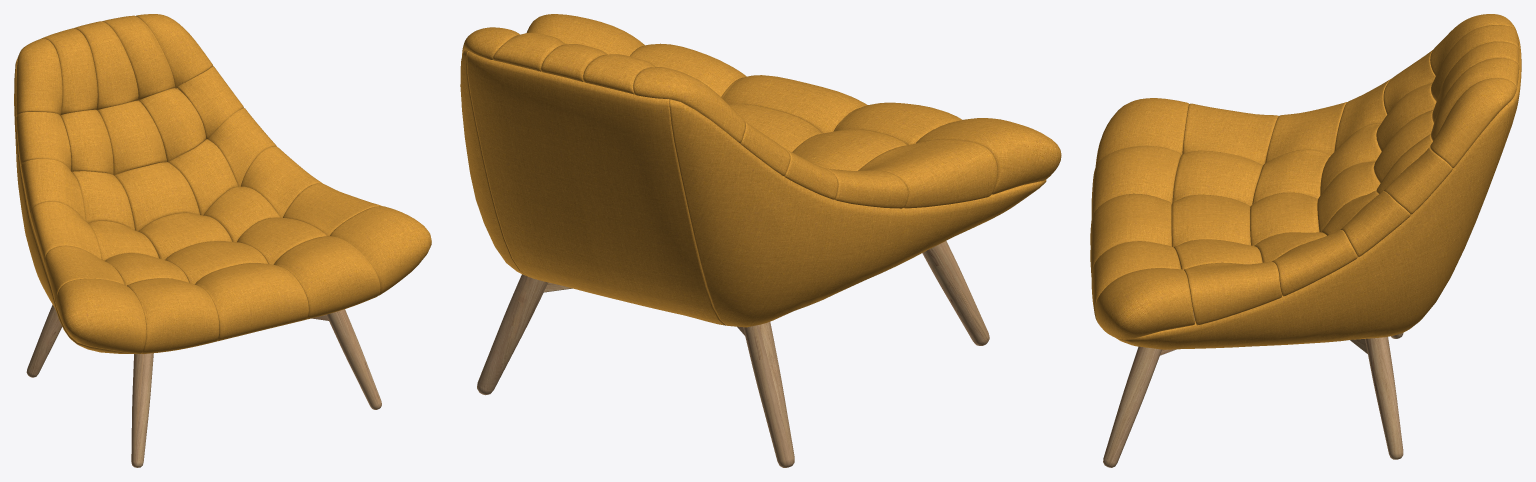
Rendered from yellowChair.gltf.
3 renders of one model, left to right at view 1: azimuth 30°, elevation 25°; view 2: azimuth 150°, elevation 25°; view 3: azimuth 270°, elevation 25°, orthographic. The views are drawn at different scales.
Visible parts, largest first — view 1: Kolton_Chair_FABRIC_0, Kolton_Chair_WOOD_0; view 2: Kolton_Chair_FABRIC_0, Kolton_Chair_WOOD_0; view 3: Kolton_Chair_FABRIC_0, Kolton_Chair_WOOD_0.
Boxes of the visible parts, <box> form: Kolton_Chair_FABRIC_0: <box>14,14,431,354</box>; Kolton_Chair_WOOD_0: <box>26,304,381,467</box>; Kolton_Chair_FABRIC_0: <box>460,14,1061,327</box>; Kolton_Chair_WOOD_0: <box>477,241,989,467</box>; Kolton_Chair_FABRIC_0: <box>1090,14,1521,349</box>; Kolton_Chair_WOOD_0: <box>1103,311,1403,467</box>.
Size of what is drawn, in the model's own units: 114 by 88.1 by 97.9.
Materials: 2 (2 with a texture image).
